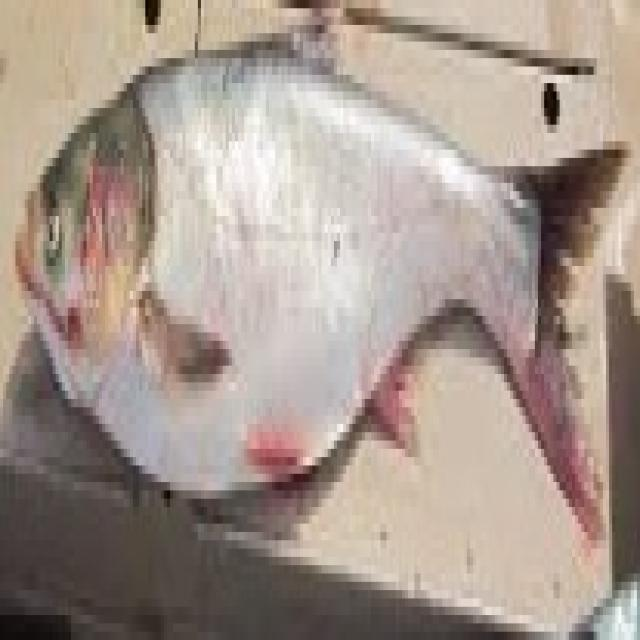Big-Head-Carp: (6, 11, 640, 612)
